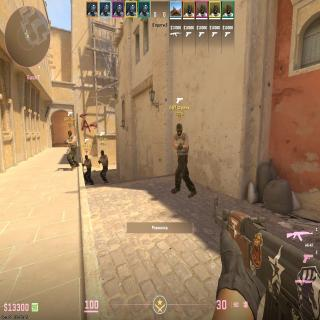T-Body: (172, 123, 190, 188), (66, 130, 78, 166), (99, 150, 109, 180), (84, 154, 92, 182)
T-Head: (176, 123, 183, 136), (68, 130, 72, 137), (101, 150, 104, 156), (85, 155, 88, 160)
